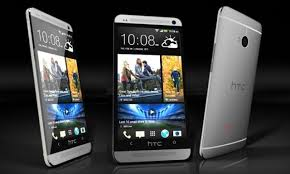htc: (110, 13, 191, 166), (20, 6, 95, 170), (197, 5, 264, 159)
